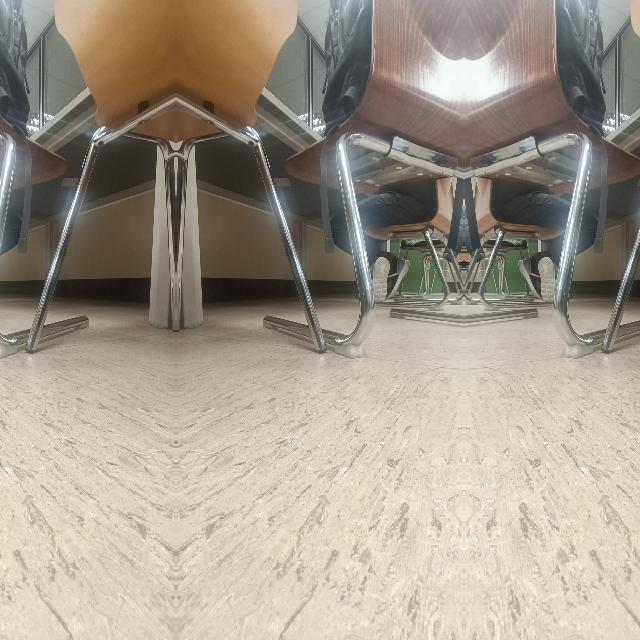obstacle: (258, 212, 384, 358), (544, 212, 640, 357), (0, 212, 91, 357)
